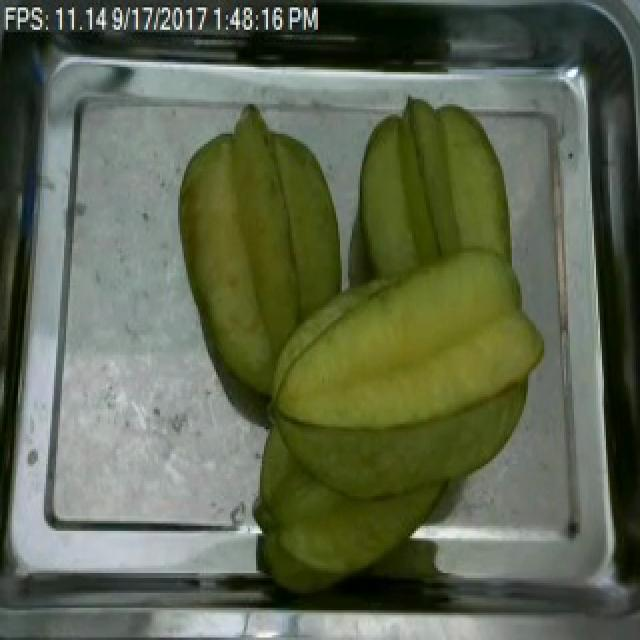fruit: (250, 248, 556, 469), (168, 111, 360, 416), (346, 92, 524, 288)
